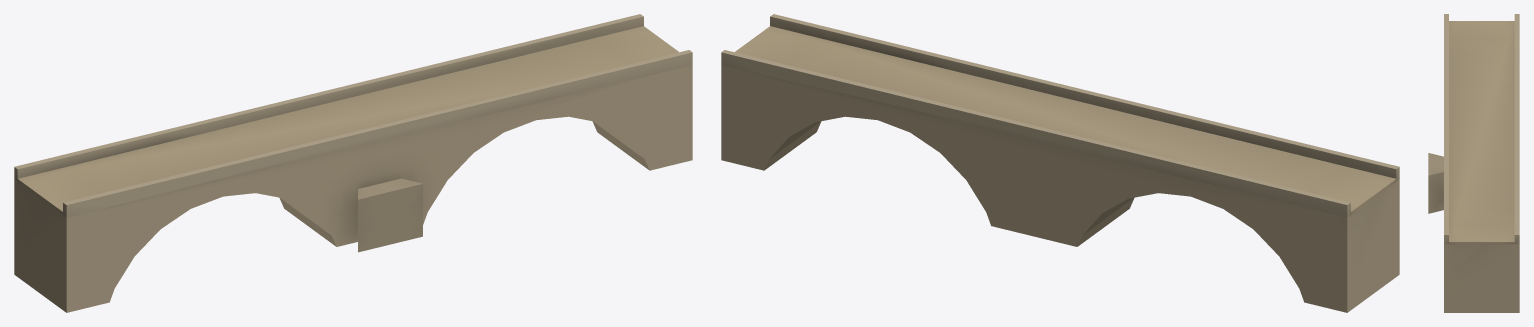
Rendered from pons-fabricius.glb.
The picture shows the model from 3 angles, left to right: view 1: azimuth 30°, elevation 25°; view 2: azimuth 150°, elevation 25°; view 3: azimuth 270°, elevation 25°; orthographic projection. The views are drawn at different scales.
Parts seen in each view (by area): view 1: p0_arches, p1_deck; view 2: p0_arches, p1_deck; view 3: p1_deck, p0_arches.
Part boxes in pixels (x1,y1,x2,y2): p0_arches: (14,65,692,312); p1_deck: (14,14,692,217); p0_arches: (721,65,1399,312); p1_deck: (721,14,1399,217); p1_deck: (1444,14,1519,244); p0_arches: (1428,153,1519,312).
Bounding box in the file's own units: 62 × 10.2 × 10.86.
